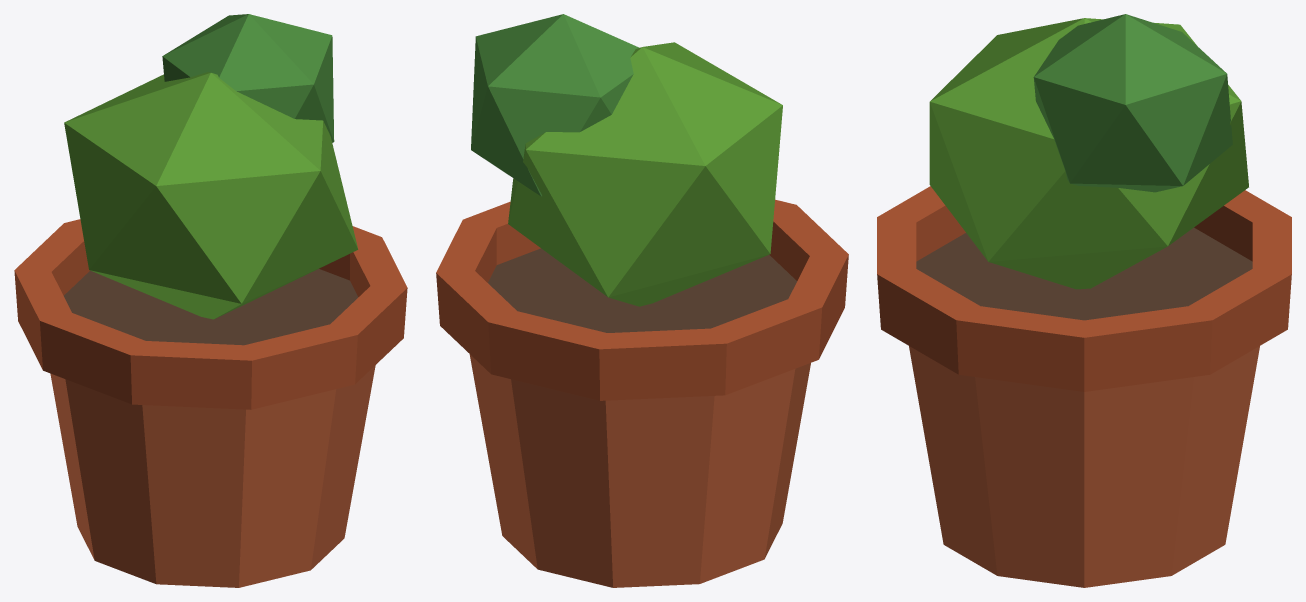
File: Pot_Bush.fbx
The picture shows the model from 3 angles, left to right: view 1: azimuth 30°, elevation 25°; view 2: azimuth 150°, elevation 25°; view 3: azimuth 270°, elevation 25°; orthographic projection. The views are drawn at different scales.
Parts seen in each view (by area): view 1: Pot_Bush; view 2: Pot_Bush; view 3: Pot_Bush.
Boxes of the visible parts, x1,y1,x2,y2 form: Pot_Bush: [14, 14, 407, 587]; Pot_Bush: [436, 14, 848, 587]; Pot_Bush: [877, 14, 1291, 587].
Bounding box in the file's own units: 0.424 × 0.5811 × 0.4032.
